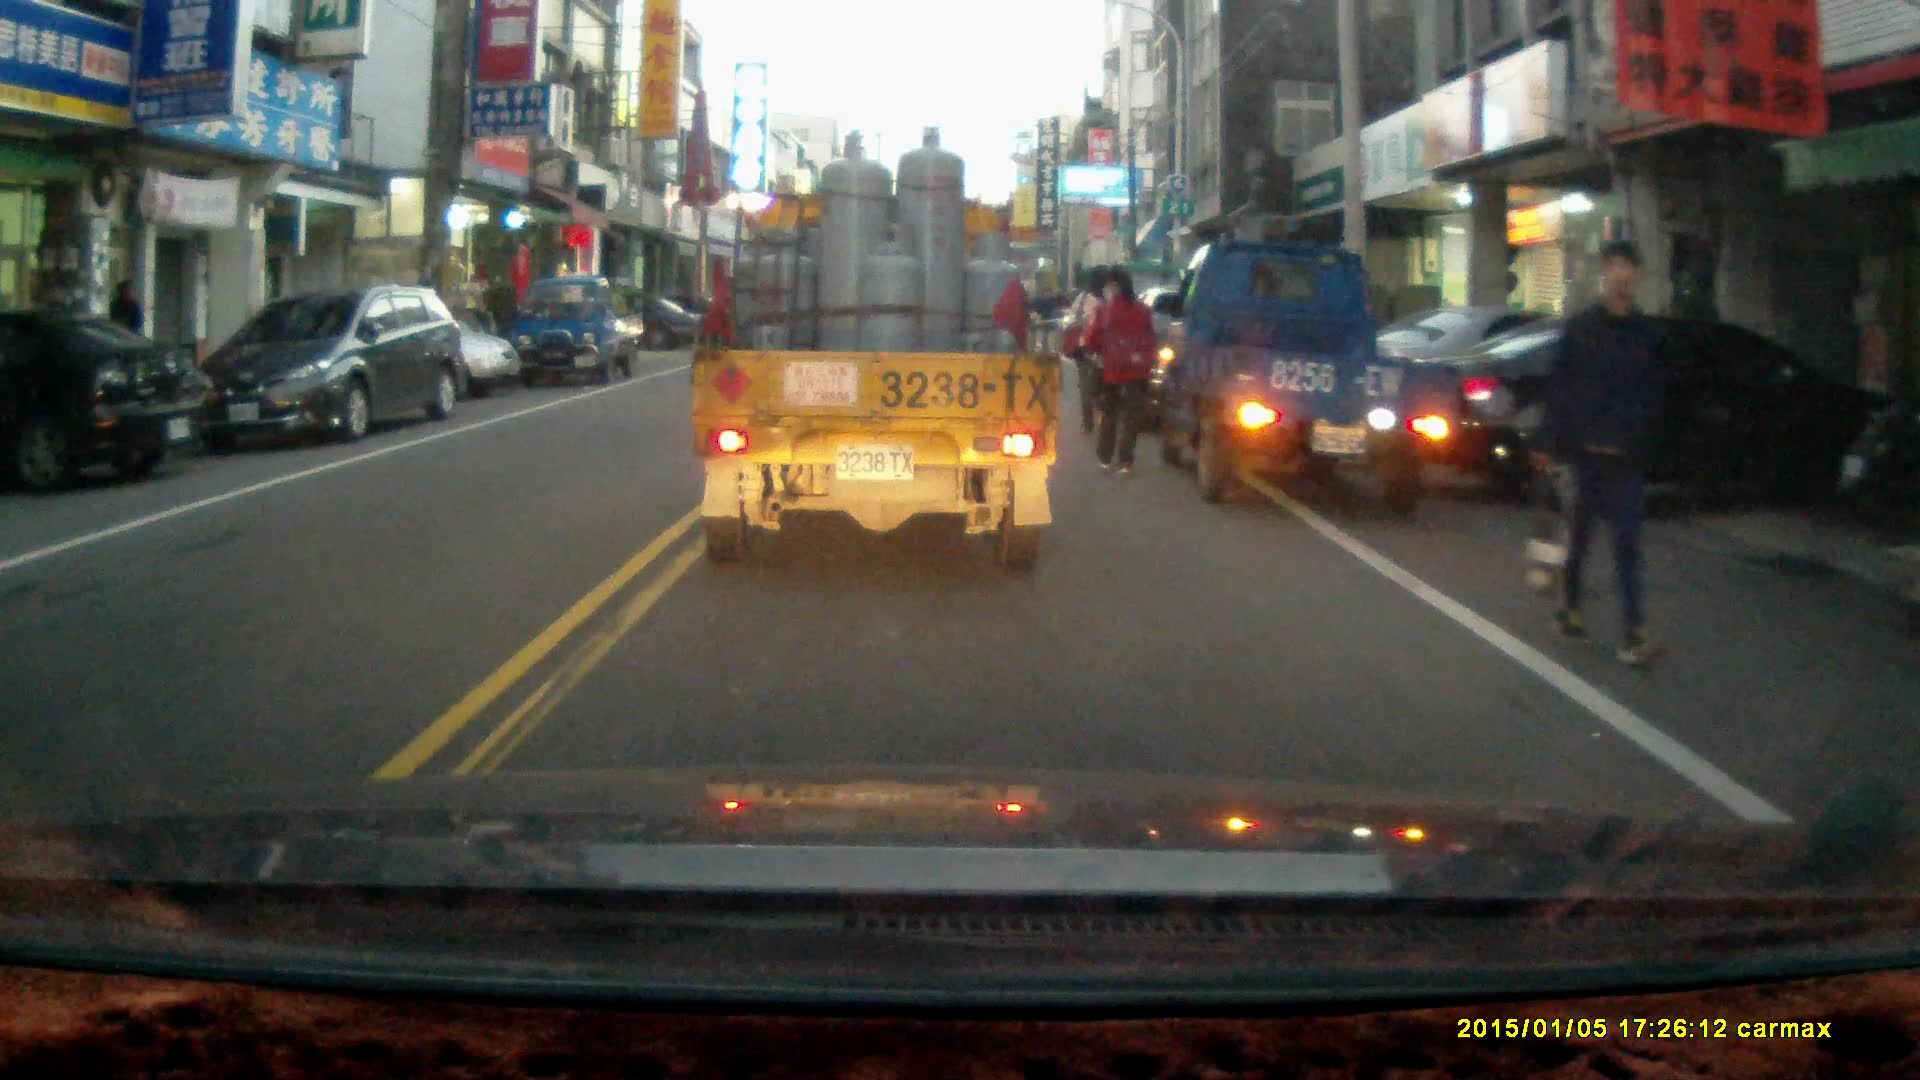pedestrian: (1533, 233, 1687, 670), (1081, 262, 1159, 473), (1066, 263, 1125, 433), (106, 276, 151, 380)
vehicle: (690, 130, 1064, 575), (1161, 241, 1466, 513), (186, 281, 472, 451), (1, 306, 214, 488), (254, 294, 522, 403), (513, 272, 646, 386)
